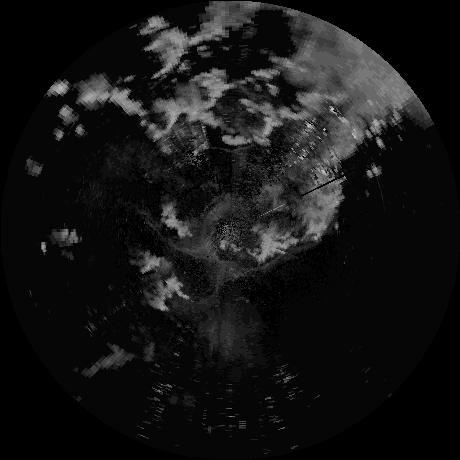frontgust: (142, 215, 183, 249), (243, 254, 283, 275), (209, 142, 253, 153)
